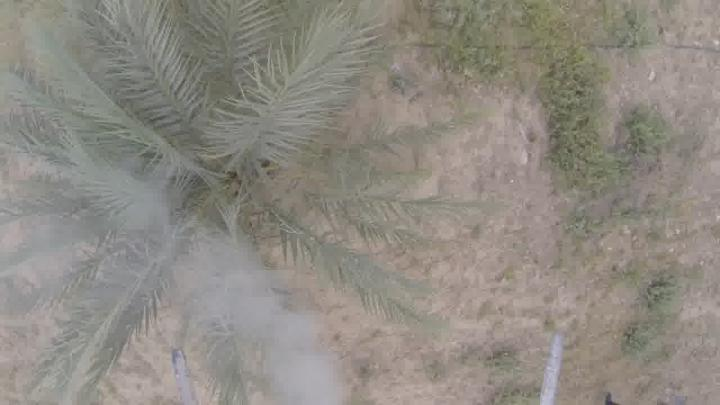Date-Palm-Crown: (81, 23, 327, 322)
